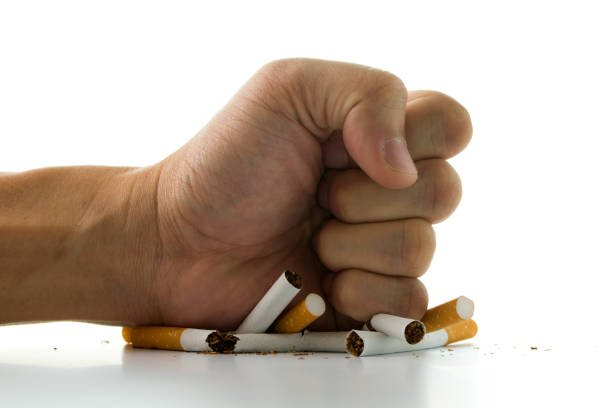cigarette: (344, 318, 478, 357), (235, 268, 304, 334), (119, 324, 222, 352), (221, 331, 353, 352), (272, 291, 327, 333), (419, 293, 475, 334), (369, 312, 428, 348)
